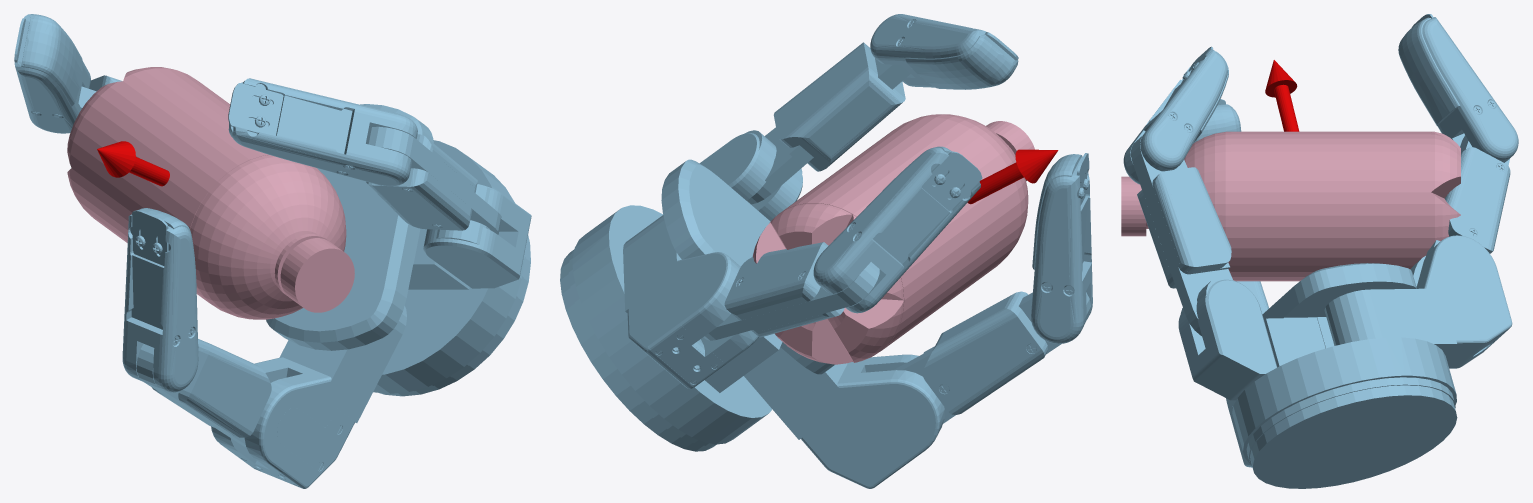
3 views of the same model, side by side, from view 1: azimuth 30°, elevation 25°; view 2: azimuth 150°, elevation 25°; view 3: azimuth 270°, elevation 25° (orthographic). The views are drawn at different scales.
Parts seen in each view (by area): view 1: world, water_bottle.stl; view 2: world, water_bottle.stl; view 3: world, water_bottle.stl.
Boxes of the visible parts, bbox=[...] form: world: bbox=[14, 14, 531, 488]; water_bottle.stl: bbox=[67, 67, 354, 319]; world: bbox=[560, 14, 1092, 488]; water_bottle.stl: bbox=[752, 114, 1034, 364]; world: bbox=[1123, 14, 1518, 488]; water_bottle.stl: bbox=[1121, 131, 1460, 281].
Bounding box in the file's own units: 0.1816 × 0.1702 × 0.1597.
